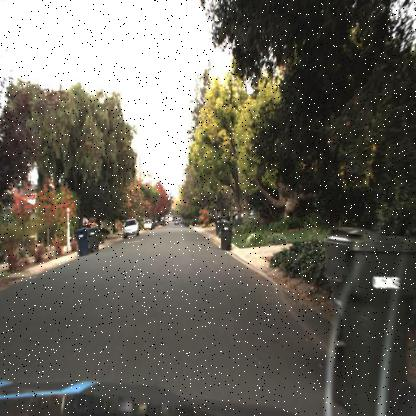car: (120, 216, 142, 242), (124, 218, 140, 238), (80, 214, 98, 231), (144, 219, 153, 231)
